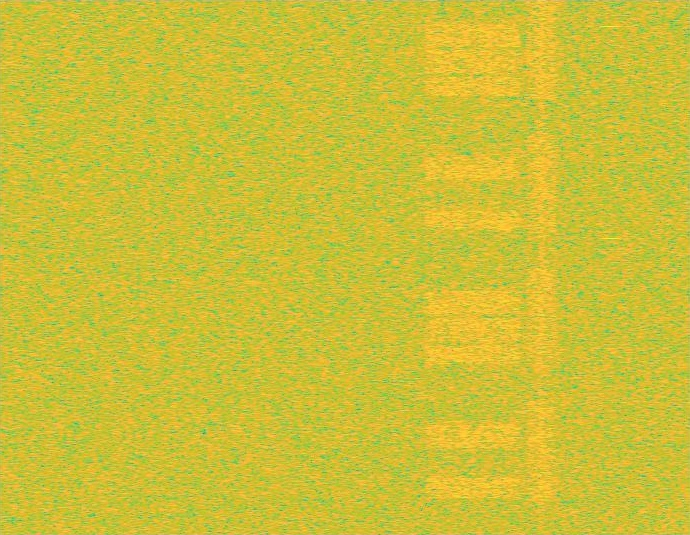5G: (524, 0, 559, 534)
DSSS: (538, 0, 546, 534)
LTE: (421, 0, 524, 534)
Radar: (604, 0, 618, 534)
